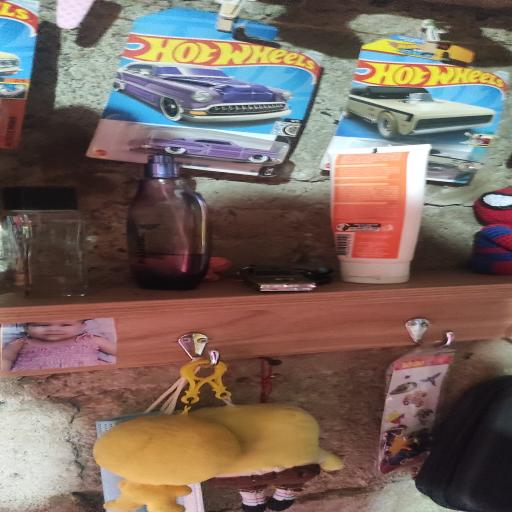Carrito: (239, 265, 332, 292)
